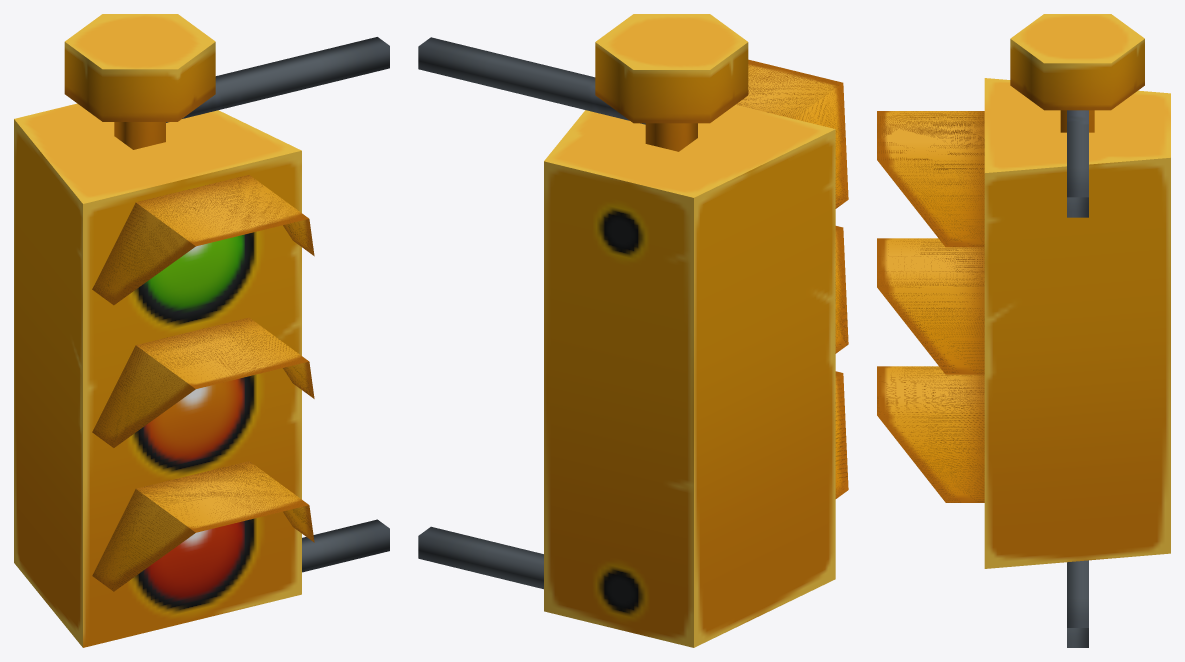
File: Streetlight_el2.fbx
3 views of the same model, side by side, from view 1: azimuth 30°, elevation 25°; view 2: azimuth 150°, elevation 25°; view 3: azimuth 270°, elevation 25° (orthographic). The views are drawn at different scales.
Parts seen in each view (by area): view 1: polySurface128; view 2: polySurface128; view 3: polySurface128.
Part boxes in pixels (x1,y1,x2,y2): polySurface128: [14, 14, 389, 647]; polySurface128: [418, 14, 848, 647]; polySurface128: [877, 14, 1170, 647].
Bounding box in the file's own units: 1.09 × 1.66 × 0.8798.
